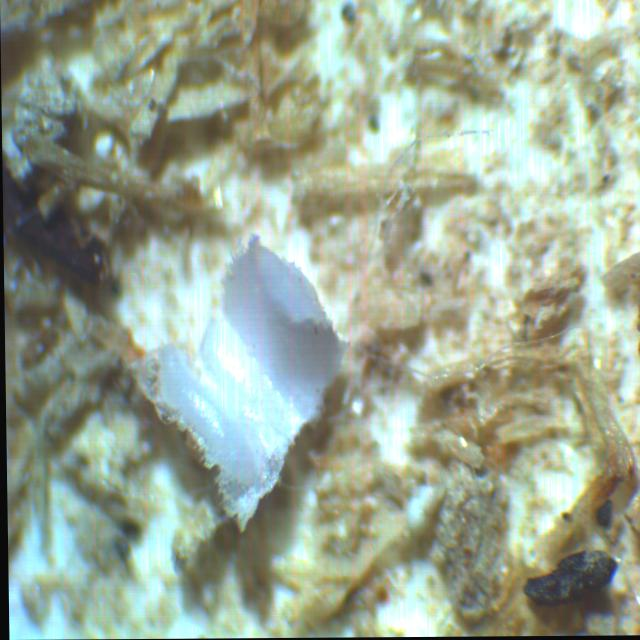microplastic: (129, 233, 347, 541)
